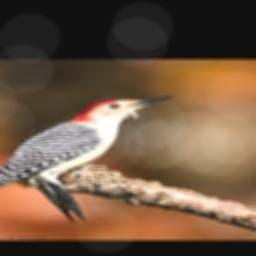Woodpecker: (0, 95, 176, 225)
